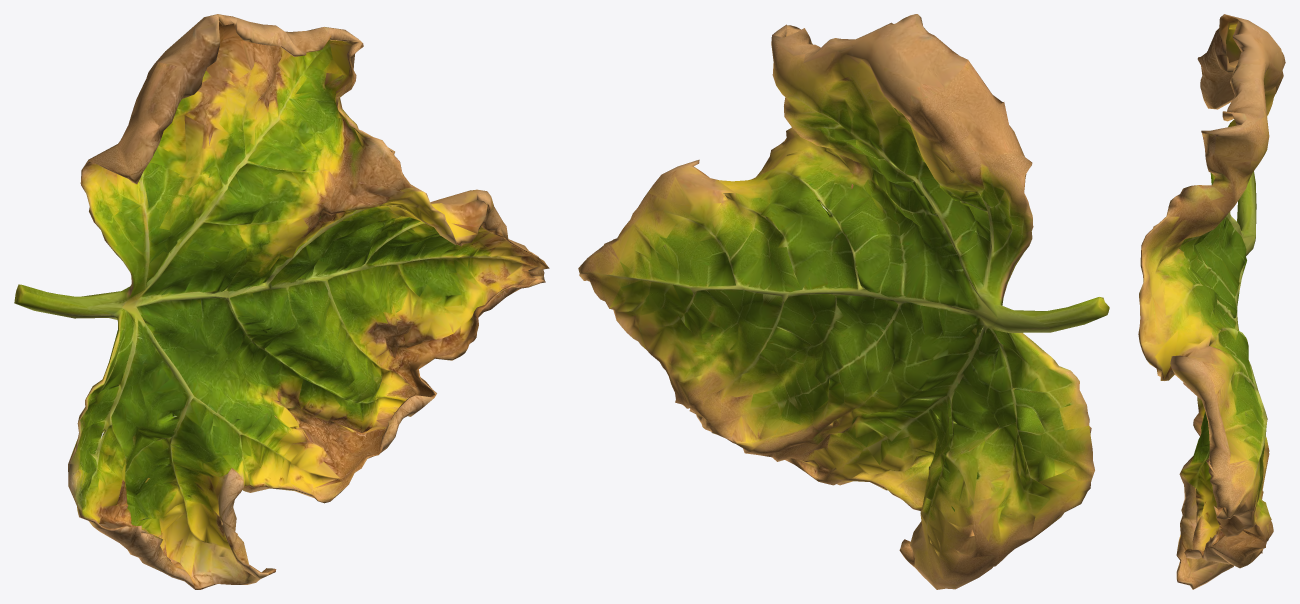
The model's file is cotton_fusarium_wilt.glb.
3 renders of one model, left to right at view 1: azimuth 30°, elevation 25°; view 2: azimuth 150°, elevation 25°; view 3: azimuth 270°, elevation 25°, orthographic.
Parts seen in each view (by area): view 1: cotton_fusarium_wilt; view 2: cotton_fusarium_wilt; view 3: cotton_fusarium_wilt.
Part boxes in pixels (<box>): cotton_fusarium_wilt: <box>14,14,549,589</box>; cotton_fusarium_wilt: <box>578,14,1109,589</box>; cotton_fusarium_wilt: <box>1138,14,1285,589</box>.
Size of the model in its own units: 0.9767 by 1 by 0.234.
Materials: 1 (1 with a texture image).
